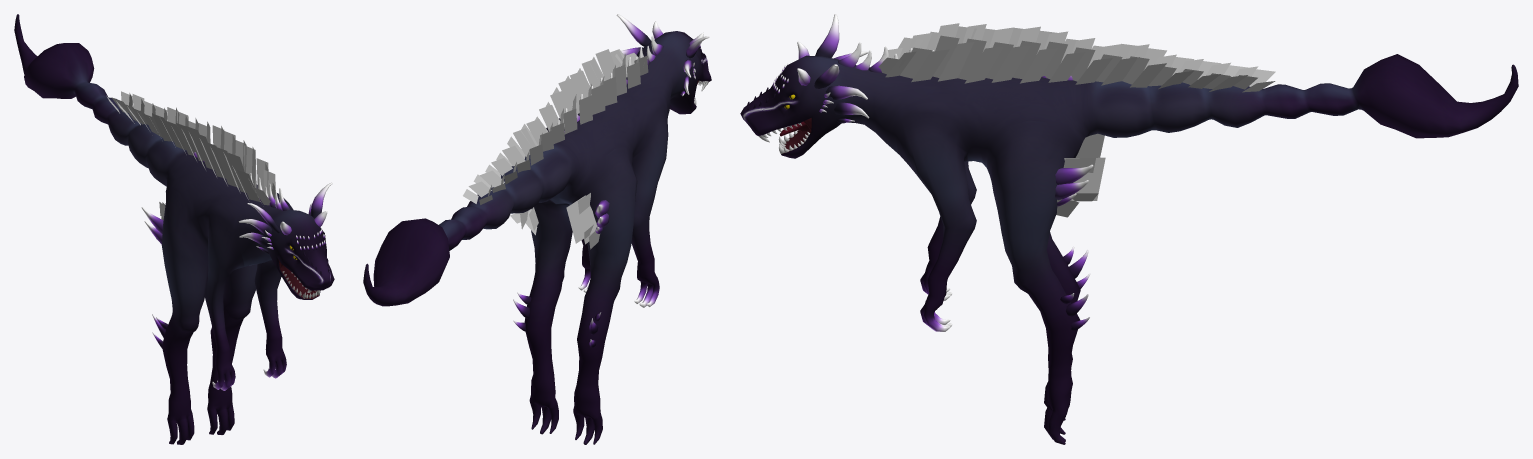
Rendered from dinosaurmonster_dummy.fbx.
3 views of the same model, side by side, from view 1: azimuth 30°, elevation 25°; view 2: azimuth 150°, elevation 25°; view 3: azimuth 270°, elevation 25° (orthographic). The views are drawn at different scales.
Visible parts, largest first — view 1: Body, Pur, Horn; view 2: Body, Pur, Horn; view 3: Body, Pur, Horn.
Boxes of the visible parts, <box> form: Body: <box>14,14,334,444</box>; Pur: <box>106,91,275,239</box>; Horn: <box>141,152,332,348</box>; Body: <box>363,31,711,444</box>; Pur: <box>463,49,648,249</box>; Horn: <box>513,14,709,347</box>; Body: <box>740,54,1518,444</box>; Pur: <box>878,23,1275,217</box>; Horn: <box>772,14,1093,330</box>.
Bounding box in the file's own units: 0.4814 × 1.61 × 2.84.
